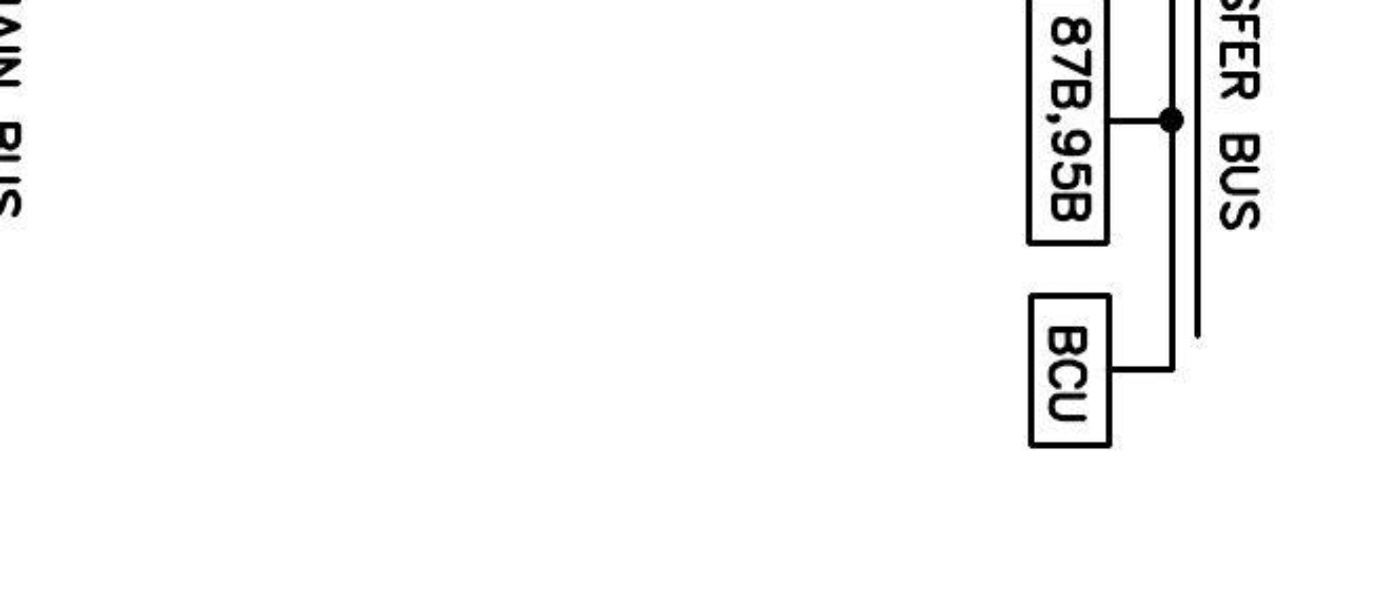BCU: (1027, 291, 1114, 451)
